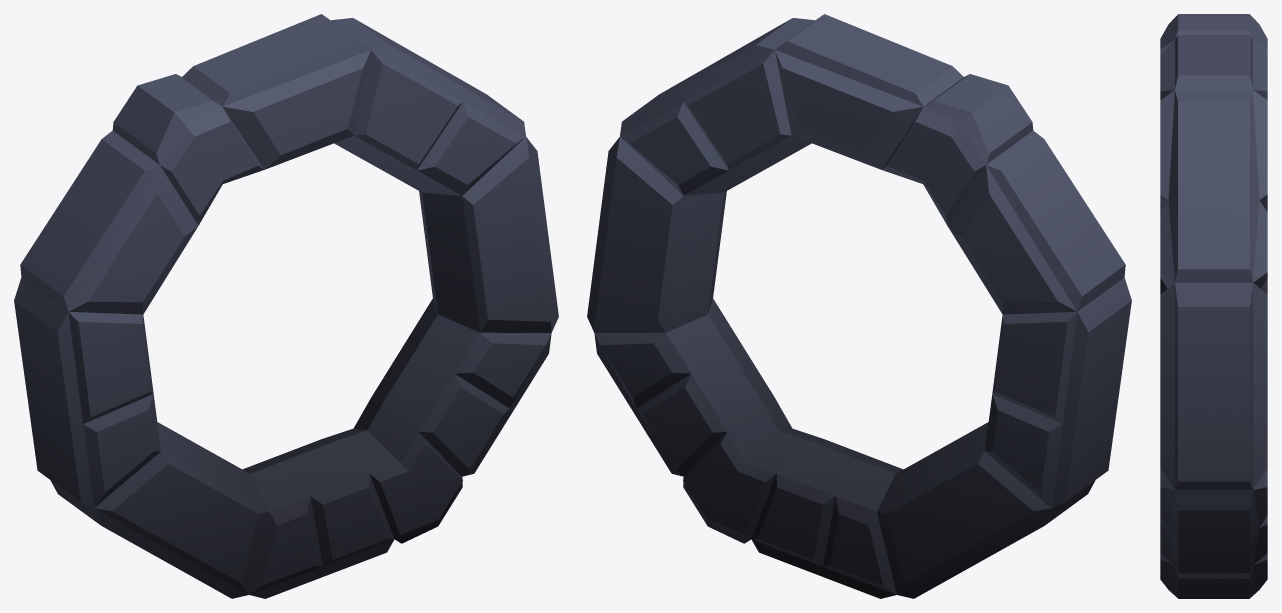
File: SM_Portal_3.fbx
3 renders of one model, left to right at view 1: azimuth 30°, elevation 25°; view 2: azimuth 150°, elevation 25°; view 3: azimuth 270°, elevation 25°, orthographic. The views are drawn at different scales.
Visible parts, largest first — view 1: Portal_3; view 2: Portal_3; view 3: Portal_3.
Part boxes in pixels (x1,y1,x2,y2): Portal_3: [14, 14, 558, 598]; Portal_3: [587, 14, 1131, 598]; Portal_3: [1160, 14, 1267, 598].
Size of the model in its own units: 475 by 478 by 90.69.
Materials: 1 (1 with a texture image).
